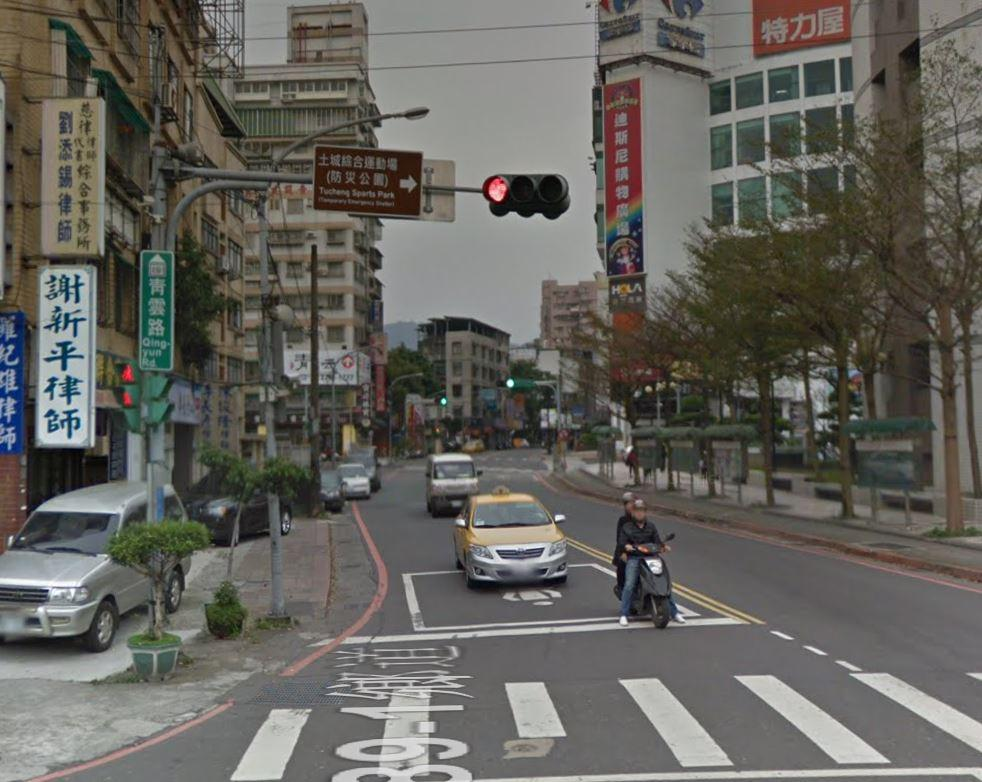red_traffic_light: (479, 169, 571, 206)
